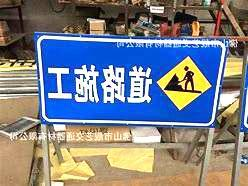sign: (37, 34, 216, 125)
